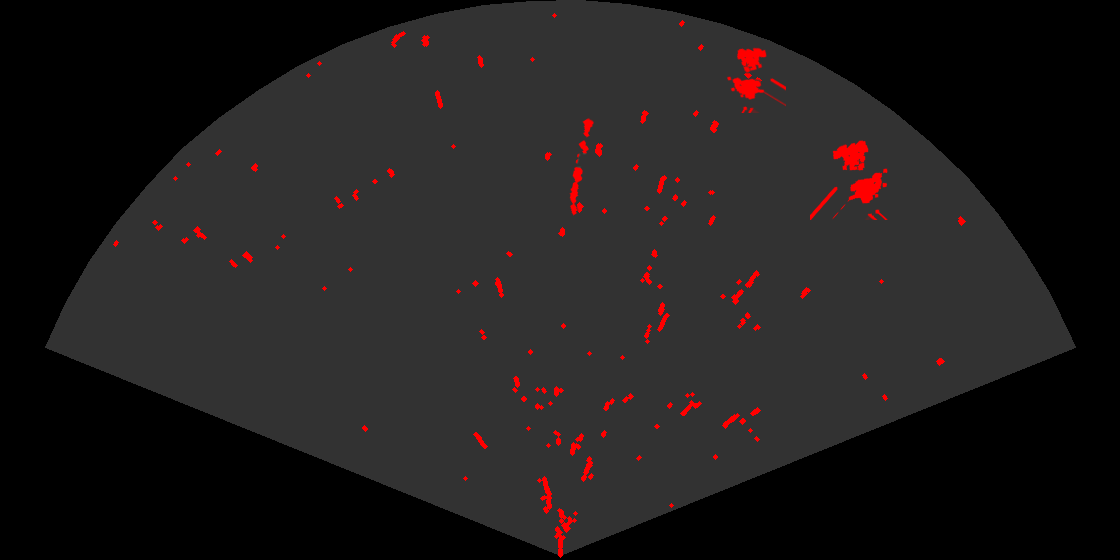cage: (810, 139, 889, 220), (725, 46, 786, 113)
chain: (568, 116, 595, 217)
